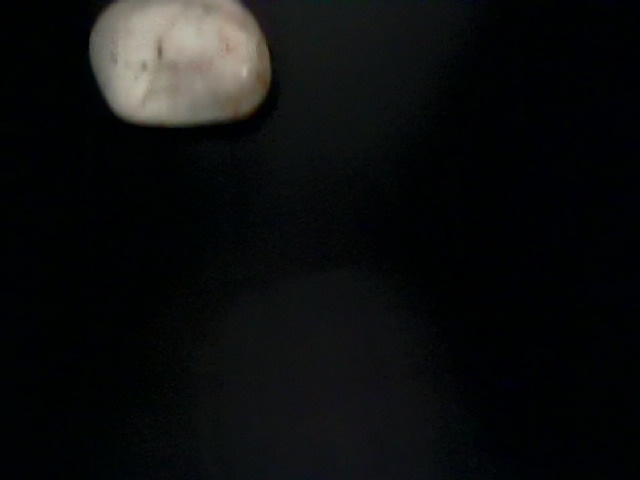QTLJ: (451, 3, 638, 296)
